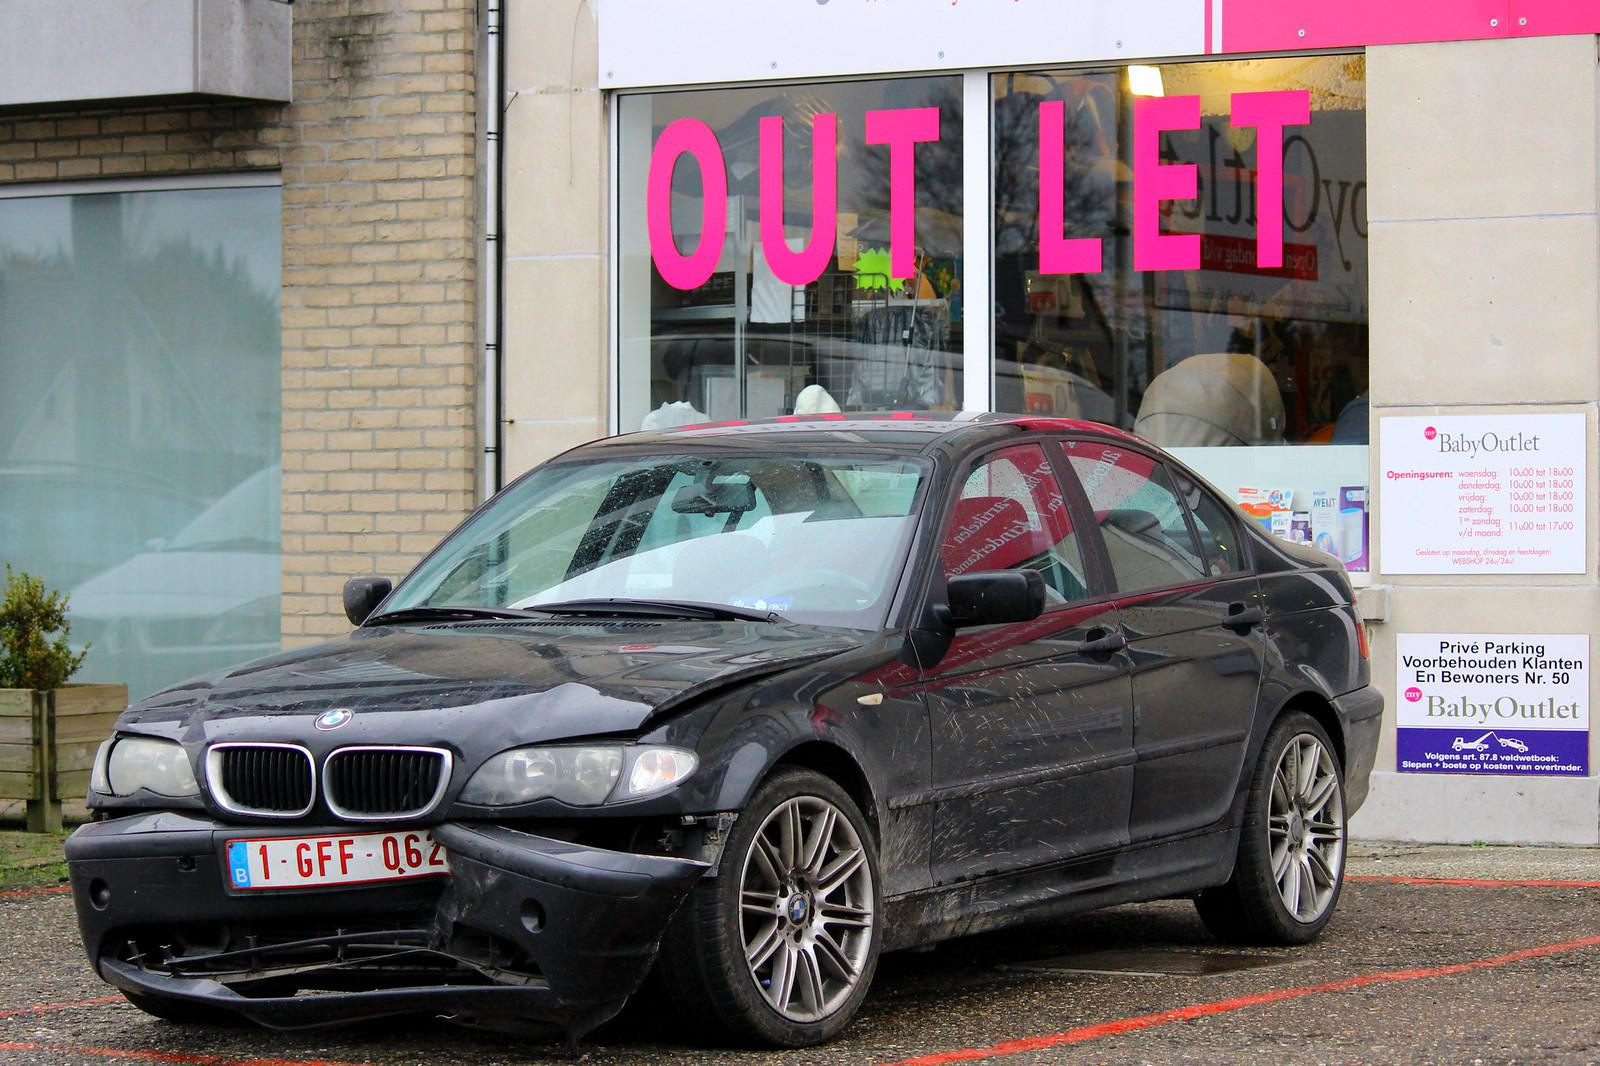bonnet-dent: (192, 610, 747, 739)
doorouter-dent: (915, 631, 1127, 889)
fender-dent: (719, 681, 974, 940)
front-bumper-dent: (81, 813, 680, 996)
